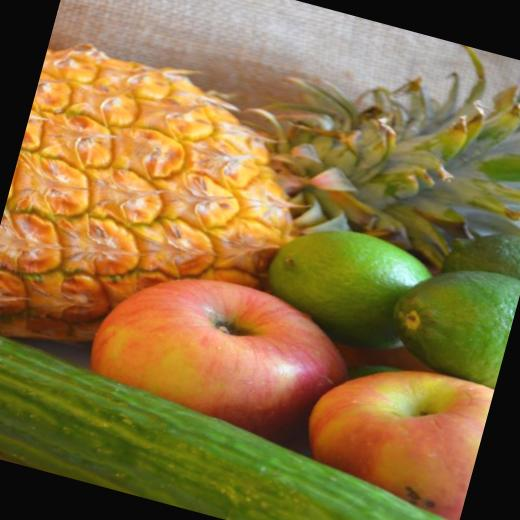Apple: (81, 256, 363, 456), (290, 344, 494, 520)
Mango: (0, 0, 520, 458)
